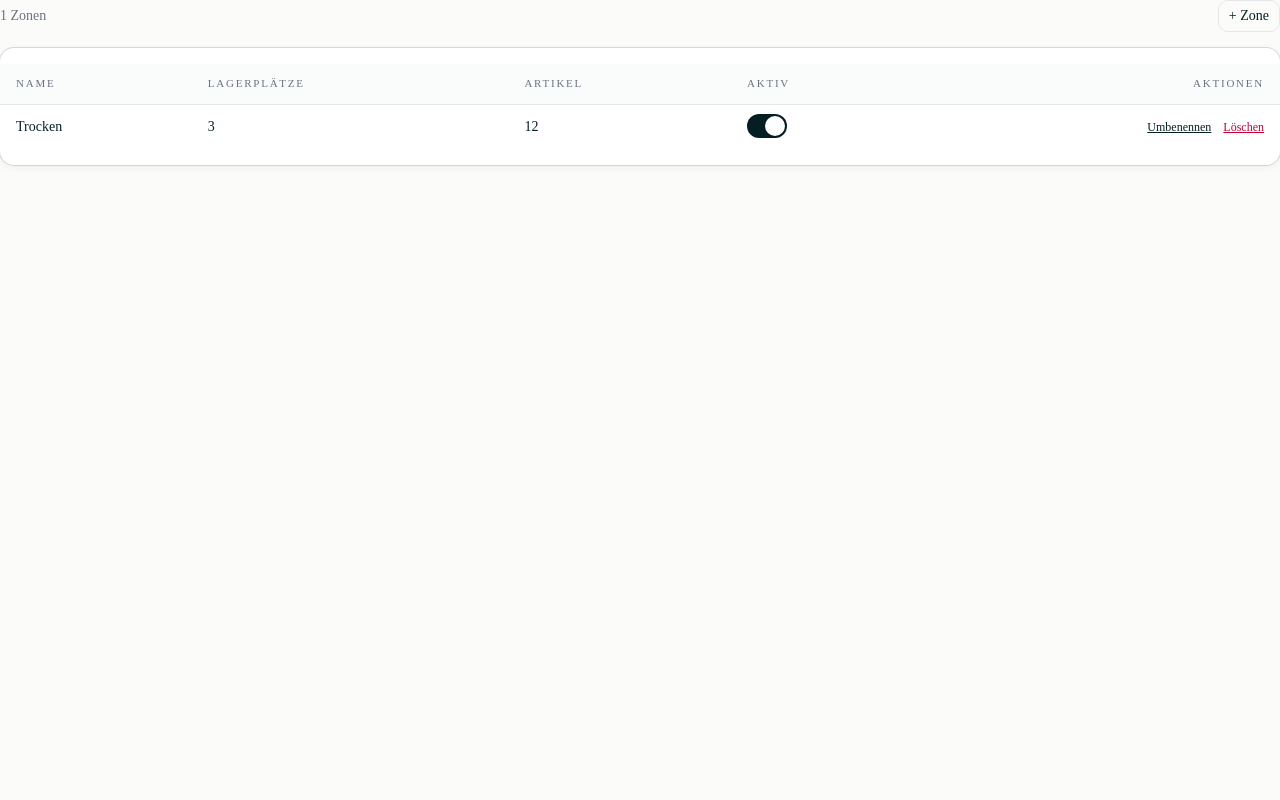
Test case: ZonesPanel › Anlegen sendet POST und zeigt die neue Zone
This screenshot has width=1280, height=800.
Click the button "+ Zone": [1249, 16] box 1218,0 -> 1279,32
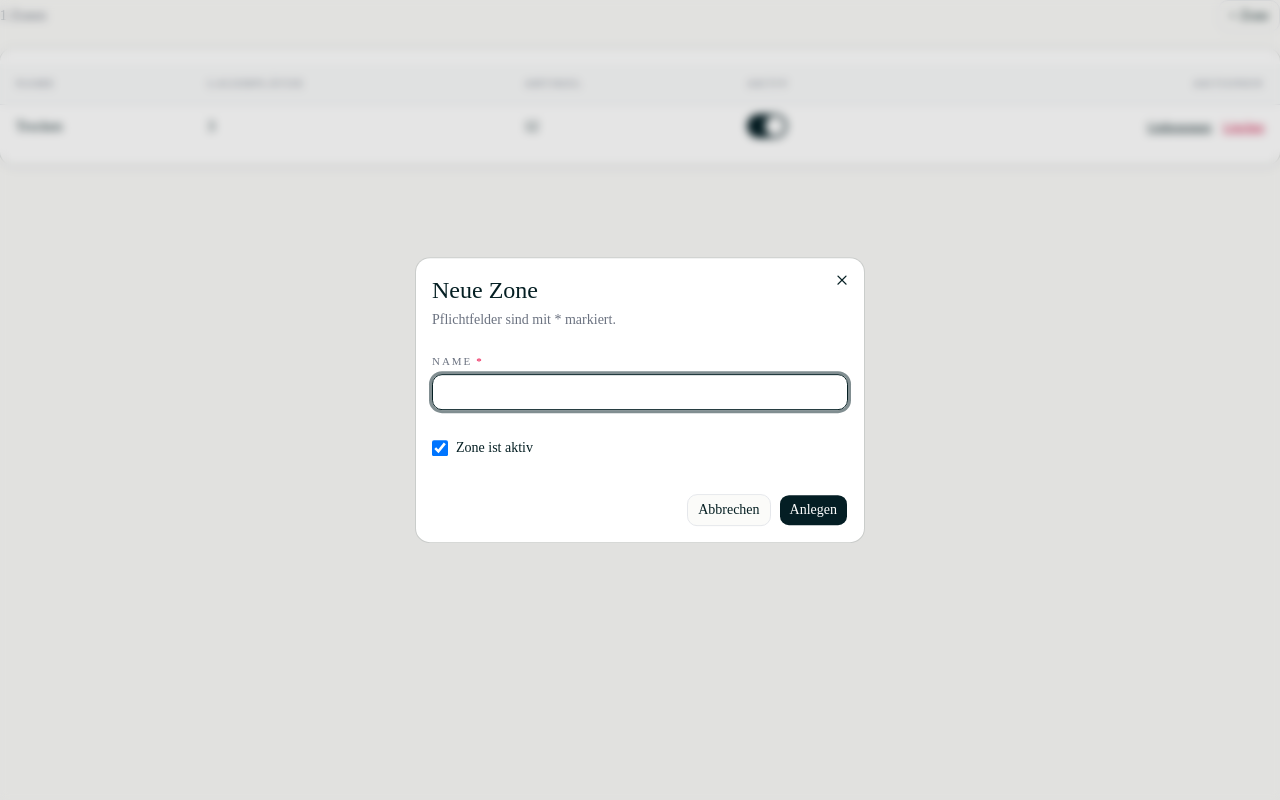
In the field labelled "Name*": [640, 392] box 432,374 -> 848,410, type "Tiefkühl"
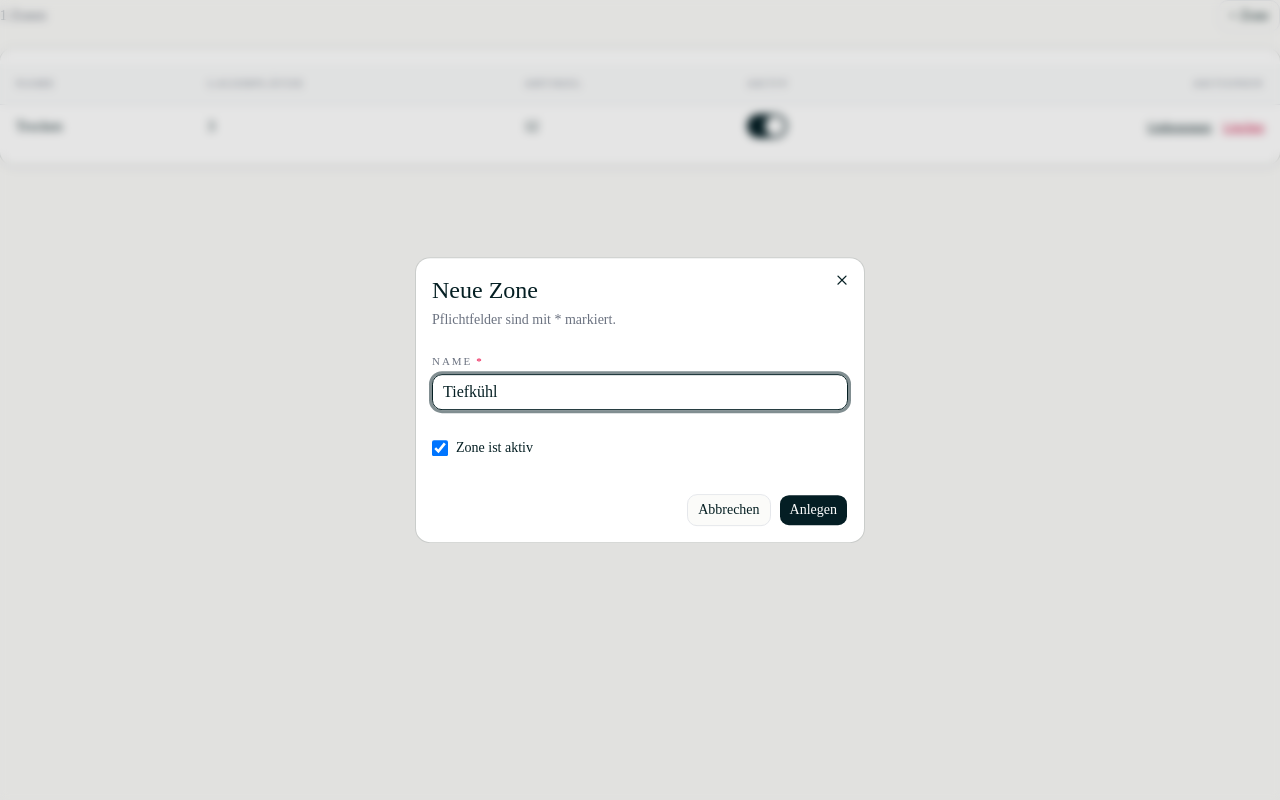
Click the button "Anlegen": [813, 510] box 779,494 -> 848,526
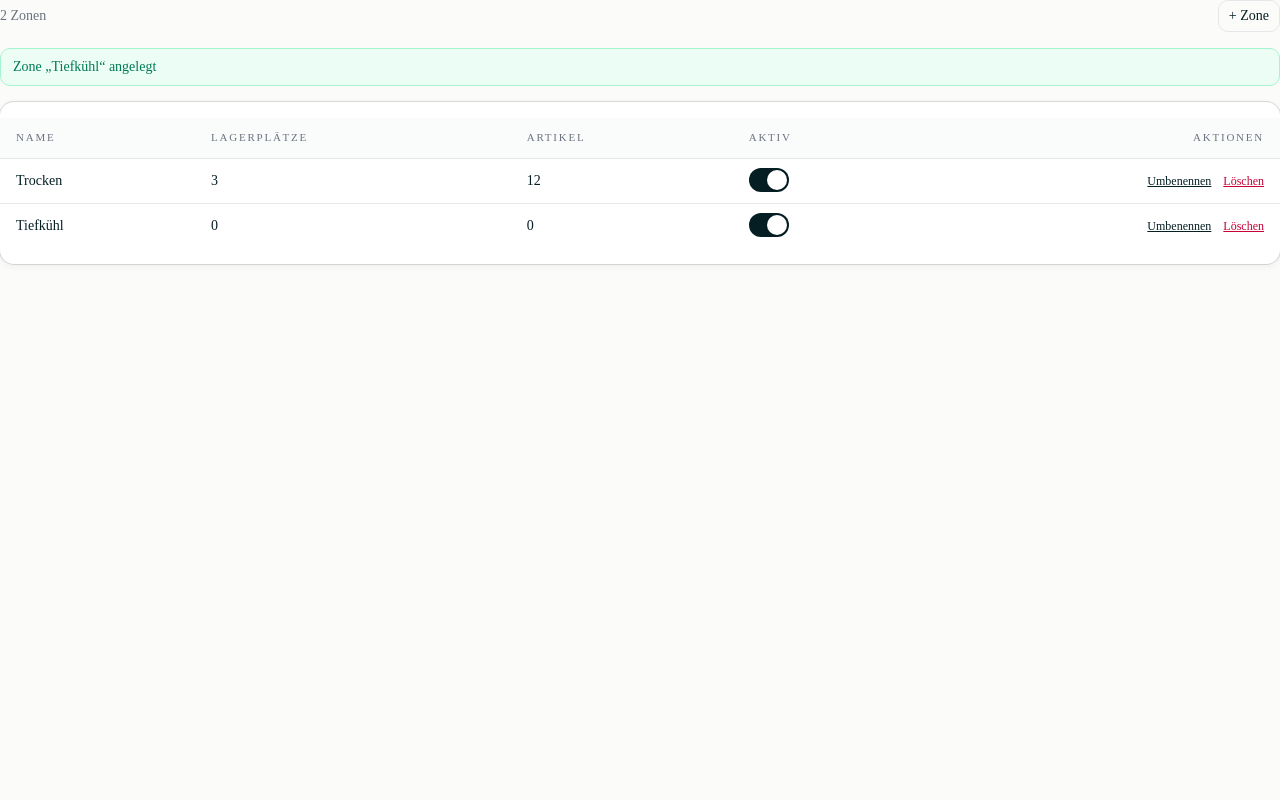
expect the text "Tiefkühl" is shown: met, box 0,203 -> 195,248
